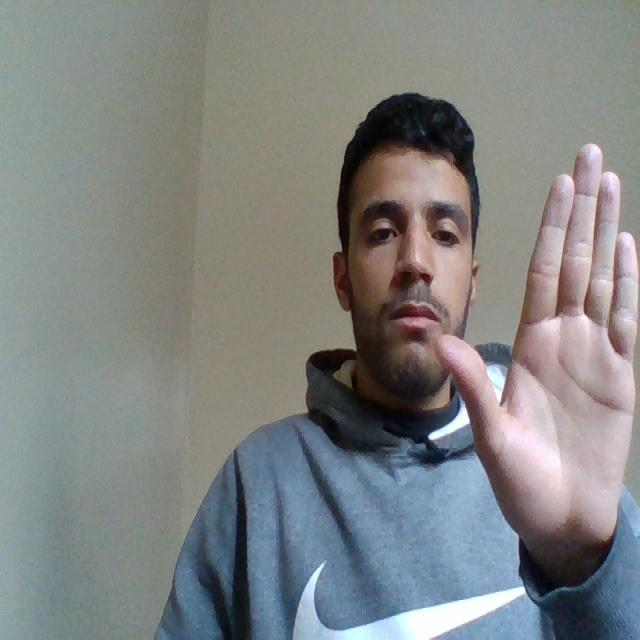Hello: (430, 136, 639, 567)
